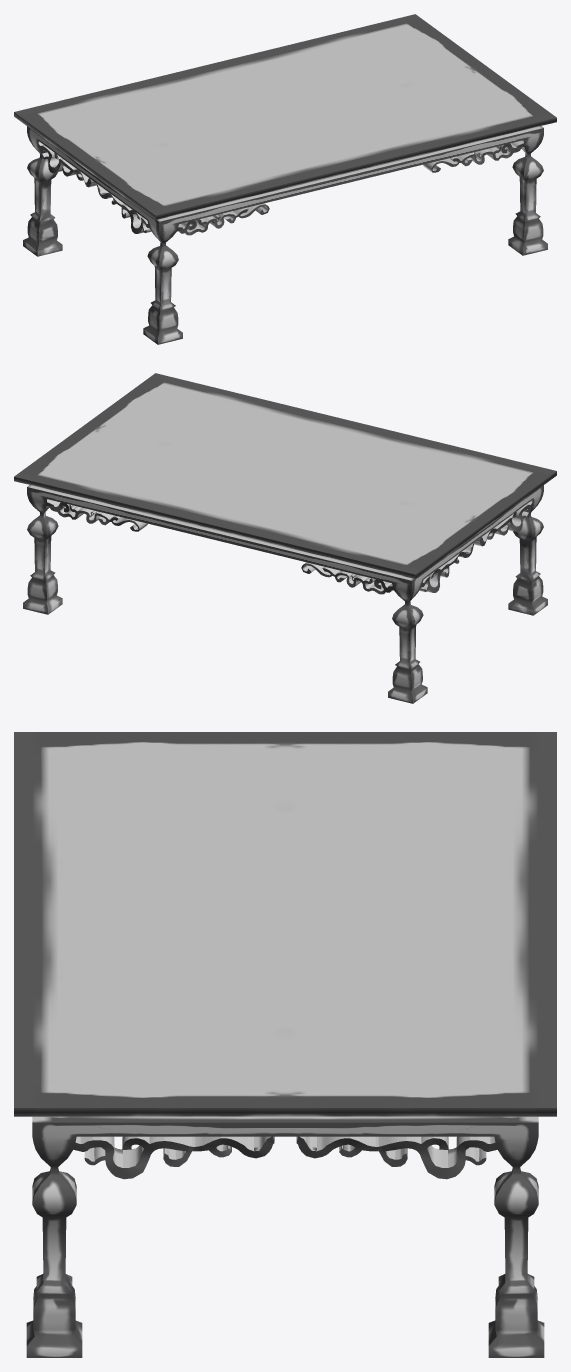
File: MESA.fbx
3 renders of one model, top to bottom at view 1: azimuth 30°, elevation 25°; view 2: azimuth 150°, elevation 25°; view 3: azimuth 270°, elevation 25°, orthographic. The views are drawn at different scales.
Visible parts, largest first — view 1: BACKUPMESA2.001; view 2: BACKUPMESA2.001; view 3: BACKUPMESA2.001.
Boxes of the visible parts, x1,y1,x2,y2 form: BACKUPMESA2.001: (14, 14, 556, 344); BACKUPMESA2.001: (14, 373, 556, 703); BACKUPMESA2.001: (14, 732, 556, 1357).
Bounding box in the file's own units: 1249 × 396 × 762.
Materials: 1 (1 with a texture image).
